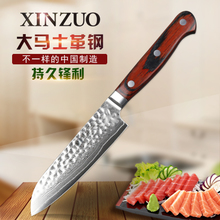knief: (24, 13, 197, 216)
